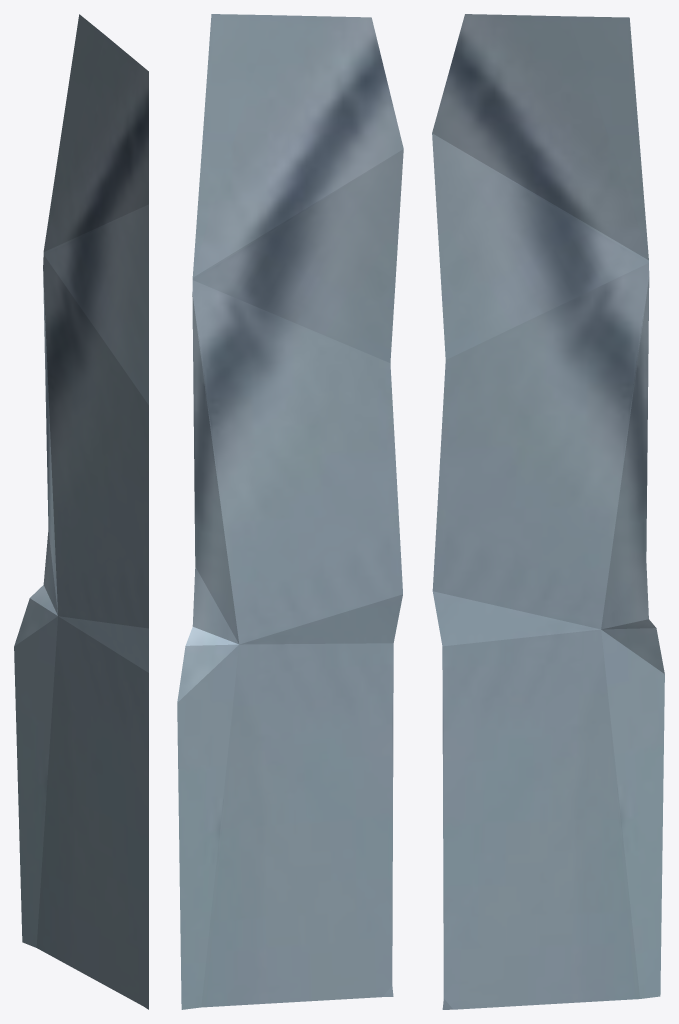
3 views of the same model, side by side, from view 1: azimuth 90°, elevation 25°; view 2: azimuth 150°, elevation 25°; view 3: azimuth 330°, elevation 25° (orthographic). The views are drawn at different scales.
Size of the model in its own units: 0.2802 by 1.67 by 0.2206.
Materials: 1 (1 with a texture image).
